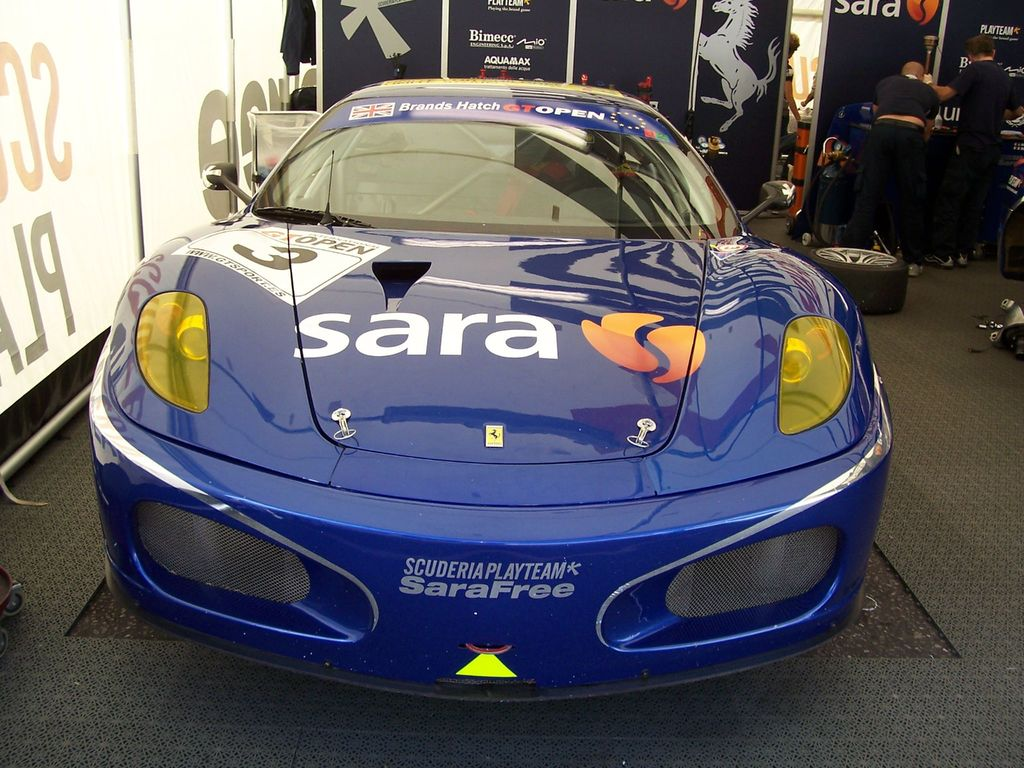Car: (90, 80, 892, 695)
